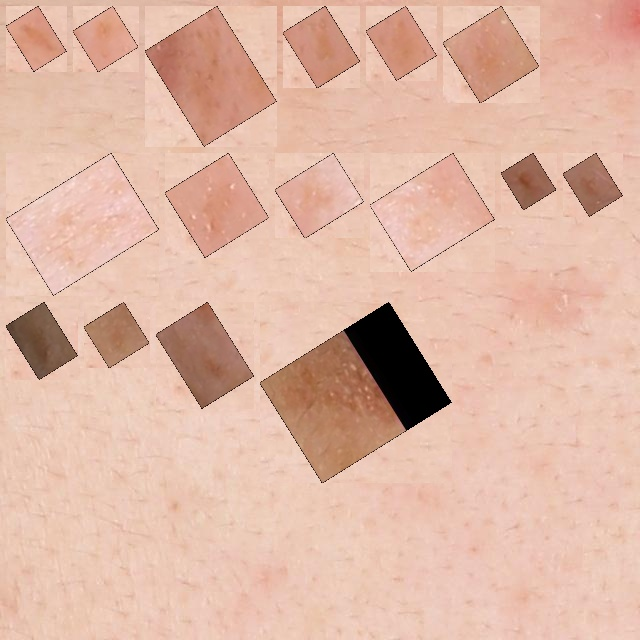melasma: (271, 313, 440, 472), (17, 164, 148, 284), (156, 17, 265, 135), (381, 164, 483, 260), (176, 164, 258, 246), (167, 313, 243, 397), (454, 17, 528, 92), (286, 164, 353, 227), (294, 17, 349, 77), (17, 313, 67, 368), (377, 17, 426, 69), (84, 17, 127, 61), (95, 313, 138, 357), (17, 17, 55, 60), (574, 164, 612, 205), (512, 164, 545, 199)
